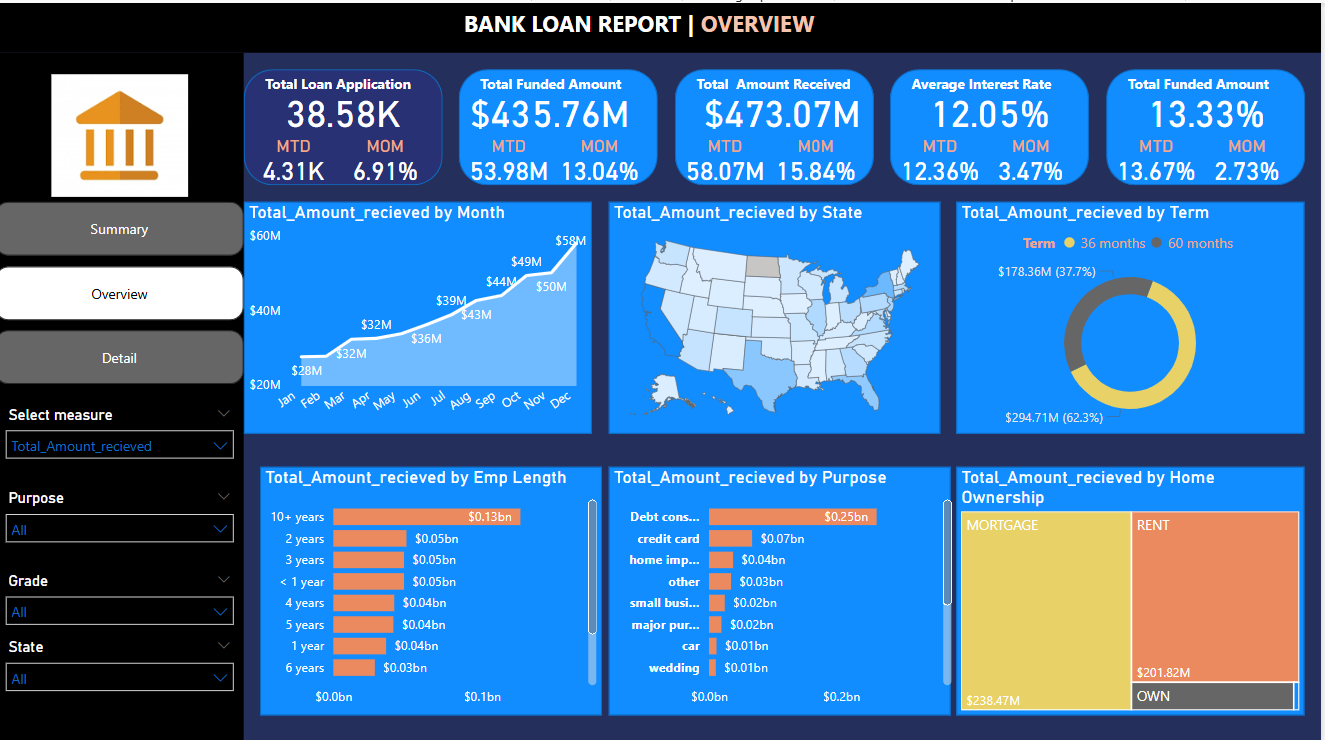

Layout of this report page (visuals, bound fields, positions):
{"tool":"powerbi","page":{"name":"Overview","canvas":[1280,720],"ordinal":1},"visuals":[{"type":"shape","box":[448,64,192,112],"z":0,"group":"g1"},{"type":"shape","box":[656,64,192,112],"z":0,"group":"g2"},{"type":"shape","box":[864,64,192,112],"z":0,"group":"g3"},{"type":"shape","box":[1072,64,192,112],"z":0,"group":"g4"},{"type":"shape","box":[240,192,336,224],"z":0},{"type":"shape","box":[0,48,240,672],"z":1000},{"type":"card","title":"Total Funded Amount","fields":{"Values":["financial_loan.Total_funded_Amount"]},"box":[448,64,176,80],"z":1000,"group":"g1"},{"type":"card","title":"Total Funded Amount","fields":{"Values":["financial_loan.Total_Amount_recieved"]},"box":[672,64,176,80],"z":1000,"group":"g2"},{"type":"card","title":"Total Funded Amount","fields":{"Values":["financial_loan.Average_int_rate"]},"box":[896,64,128,80],"z":1000,"group":"g3"},{"type":"card","title":"Total Funded Amount","fields":{"Values":["financial_loan.Average DTI"]},"box":[1104,64,128,80],"z":1000,"group":"g4"},{"type":"shape","box":[0,0,1280,48],"z":2000},{"type":"textbox","box":[464,64,192,32],"z":2000,"group":"g1"},{"type":"textbox","box":[672,64,192,32],"z":2000,"group":"g2"},{"type":"textbox","box":[880,64,192,32],"z":2000,"group":"g3"},{"type":"textbox","box":[1088,64,192,32],"z":2000,"group":"g4"},{"type":"textbox","box":[448,0,416,48],"z":3000},{"type":"card","title":"MTD","fields":{"Values":["financial_loan.MTD_loan_funded"]},"box":[448,128,96,48],"z":3000,"group":"g1"},{"type":"card","title":"MTD","fields":{"Values":["financial_loan.MTD_Loan_Amount_Rec"]},"box":[656,128,96,48],"z":3000,"group":"g2"},{"type":"card","title":"MTD","fields":{"Values":["financial_loan.MTD_average_Rate"]},"box":[864,128,96,48],"z":3000,"group":"g3"},{"type":"card","title":"MTD","fields":{"Values":["financial_loan.MTD DTI"]},"box":[1072,128,96,48],"z":3000,"group":"g4"},{"type":"shape","box":[240,64,192,112],"z":4000},{"type":"card","title":"MOM","fields":{"Values":["financial_loan.MTM_loan_funded%"]},"box":[528,128,112,48],"z":4000,"group":"g1"},{"type":"card","title":"M0M","fields":{"Values":["financial_loan.MOM_loan_Receve%"]},"box":[736,128,112,48],"z":4000,"group":"g2"},{"type":"card","title":"MOM","fields":{"Values":["financial_loan.MOM_Average%"]},"box":[944,128,112,48],"z":4000,"group":"g3"},{"type":"card","title":"MOM","fields":{"Values":["financial_loan.MOM DTI %"]},"box":[1152,128,112,48],"z":4000,"group":"g4"},{"type":"card","title":"Total Loan Aplication","fields":{"Values":["CountNonNull(financial_loan.id)"]},"box":[224,80,224,48],"z":5000},{"type":"textbox","box":[256,64,176,32],"z":6000},{"type":"card","title":"MTD","fields":{"Values":["financial_loan.MTD_Loan_app"]},"box":[240,128,96,48],"z":7000},{"type":"card","title":"MOM","fields":{"Values":["financial_loan.MTM_loan aplication"]},"box":[336,128,80,48],"z":8000},{"type":"group","id":"g1","title":"Group 1","box":[448,64,208,112],"z":9000},{"type":"group","id":"g2","title":"Group 1","box":[656,64,208,112],"z":10000},{"type":"group","id":"g3","title":"Group 1","box":[864,64,208,112],"z":11000},{"type":"group","id":"g4","title":"Group 1","box":[1072,64,192,112],"z":12000},{"type":"slicer","fields":{"Values":["financial_loan.purpose"]},"box":[0,464,240,64],"z":13000},{"type":"slicer","fields":{"Values":["financial_loan.grade"]},"box":[0,544,240,64],"z":14000},{"type":"slicer","fields":{"Values":["financial_loan.address_state"]},"box":[0,608,240,80],"z":15000},{"type":"slicer","fields":{"Values":["Select measure.Select measure"]},"box":[0,384,240,64],"z":16000},{"type":"areaChart","fields":{"Y":["financial_loan.Total_Amount_recieved"],"Category":["date.month"]},"box":[240,192,336,224],"z":17000},{"type":"shape","box":[928,192,336,224],"z":18000},{"type":"donutChart","fields":{"Y":["financial_loan.Total_Amount_recieved"],"Category":["financial_loan.term"]},"box":[928,192,336,224],"z":19000},{"type":"shape","box":[256,448,330,240],"z":20000},{"type":"barChart","fields":{"Y":["financial_loan.Total_Amount_recieved"],"Category":["financial_loan.emp_length"]},"box":[256,448,330,240],"z":21000},{"type":"shape","box":[592,448,330,240],"z":22000},{"type":"shape","box":[592,192,320,224],"z":22250},{"type":"shapeMap","fields":{"Category":["financial_loan.address_state"],"Value":["financial_loan.Total_Amount_recieved"]},"box":[592,192,320,224],"z":22500},{"type":"barChart","fields":{"Y":["financial_loan.Total_Amount_recieved"],"Category":["financial_loan.purpose"]},"box":[592,448,336,240],"z":23000},{"type":"shape","box":[928,448,336,240],"z":24000},{"type":"treemap","fields":{"Values":["financial_loan.Total_Amount_recieved"],"Group":["financial_loan.home_ownership"]},"box":[928,448,336,240],"z":25000},{"type":"pageNavigator","box":[0,192,240,176],"z":26000},{"type":"image","box":[0,64,240,128],"z":28000}]}

Visuals, with their boxes on the page's 1280x720 design canvas (x1, y1, x2, y2). These are canvas units, not pixel positions in the 1325x740 screenshot, which may show the page scaled, cropped or inside an application window:
shape: 448:64:640:176
shape: 656:64:848:176
shape: 864:64:1056:176
shape: 1072:64:1264:176
shape: 240:192:576:416
shape: 0:48:240:720
"Total Funded Amount" card: 448:64:624:144
"Total Funded Amount" card: 672:64:848:144
"Total Funded Amount" card: 896:64:1024:144
"Total Funded Amount" card: 1104:64:1232:144
shape: 0:0:1280:48
textbox: 464:64:656:96
textbox: 672:64:864:96
textbox: 880:64:1072:96
textbox: 1088:64:1280:96
textbox: 448:0:864:48
"MTD" card: 448:128:544:176
"MTD" card: 656:128:752:176
"MTD" card: 864:128:960:176
"MTD" card: 1072:128:1168:176
shape: 240:64:432:176
"MOM" card: 528:128:640:176
"M0M" card: 736:128:848:176
"MOM" card: 944:128:1056:176
"MOM" card: 1152:128:1264:176
"Total Loan Aplication" card: 224:80:448:128
textbox: 256:64:432:96
"MTD" card: 240:128:336:176
"MOM" card: 336:128:416:176
"Group 1" group: 448:64:656:176
"Group 1" group: 656:64:864:176
"Group 1" group: 864:64:1072:176
"Group 1" group: 1072:64:1264:176
slicer - financial_loan.purpose: 0:464:240:528
slicer - financial_loan.grade: 0:544:240:608
slicer - financial_loan.address_state: 0:608:240:688
slicer - Select measure.Select measure: 0:384:240:448
areaChart - financial_loan.Total_Amount_recieved x date.month: 240:192:576:416
shape: 928:192:1264:416
donutChart - financial_loan.Total_Amount_recieved x financial_loan.term: 928:192:1264:416
shape: 256:448:586:688
barChart - financial_loan.Total_Amount_recieved x financial_loan.emp_length: 256:448:586:688
shape: 592:448:922:688
shape: 592:192:912:416
shapeMap - financial_loan.address_state x financial_loan.Total_Amount_recieved: 592:192:912:416
barChart - financial_loan.Total_Amount_recieved x financial_loan.purpose: 592:448:928:688
shape: 928:448:1264:688
treemap - financial_loan.Total_Amount_recieved x financial_loan.home_ownership: 928:448:1264:688
pageNavigator: 0:192:240:368
image: 0:64:240:192
